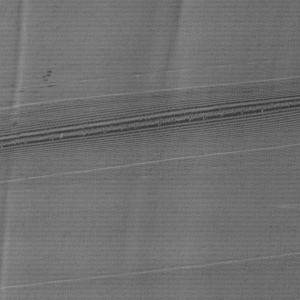Wrinkle: (127, 1, 209, 119), (123, 155, 166, 300), (1, 1, 43, 141), (1, 155, 19, 300)
